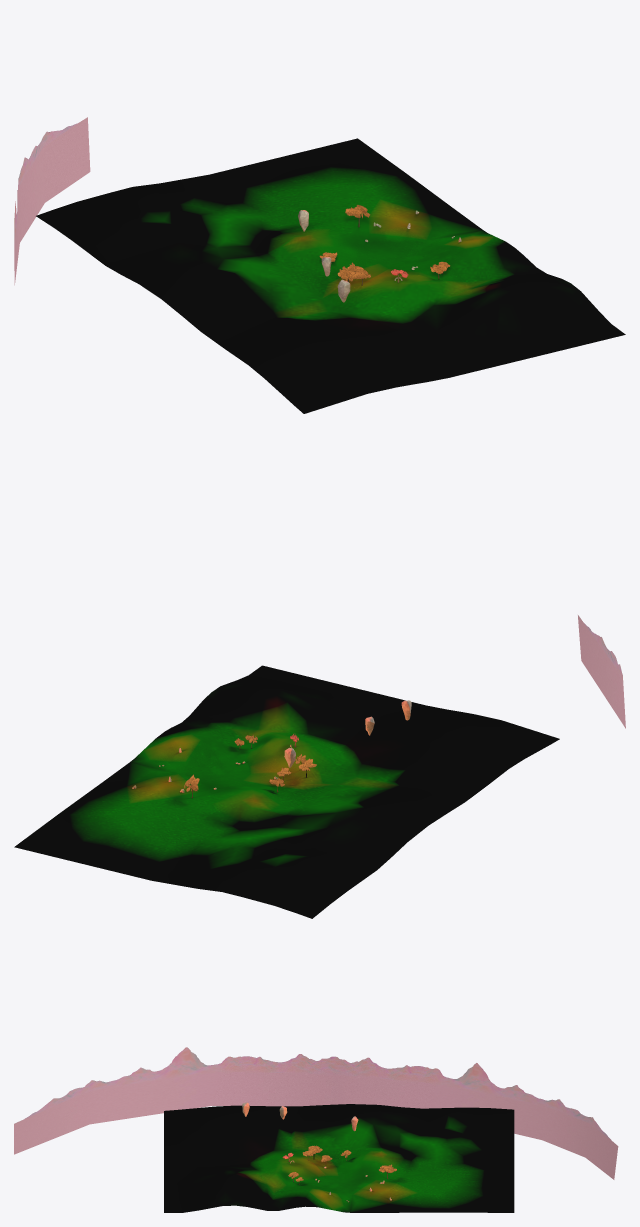
File: chapter1.glb
The picture shows the model from 3 angles, top to bottom: view 1: azimuth 30°, elevation 25°; view 2: azimuth 150°, elevation 25°; view 3: azimuth 270°, elevation 25°; orthographic projection. The views are drawn at different scales.
Visible parts, largest first — view 1: ground_mesh, mountain, trees_mesh; view 2: ground_mesh, mountain, trees_mesh; view 3: ground_mesh, mountain, trees_mesh.
Boxes of the visible parts, left/top/right/bottom form: ground_mesh: left=36, top=138, right=625, bottom=413; mountain: left=14, top=117, right=90, bottom=285; trees_mesh: left=319, top=204, right=450, bottom=285; ground_mesh: left=14, top=665, right=559, bottom=918; mountain: left=578, top=615, right=625, bottom=728; trees_mesh: left=184, top=733, right=316, bottom=798; ground_mesh: left=164, top=1104, right=514, bottom=1212; mountain: left=14, top=1047, right=618, bottom=1179; trees_mesh: left=282, top=1145, right=396, bottom=1184.
Bounding box in the file's own units: 108 × 42.12 × 204.
Materials: 18 (18 with a texture image).
